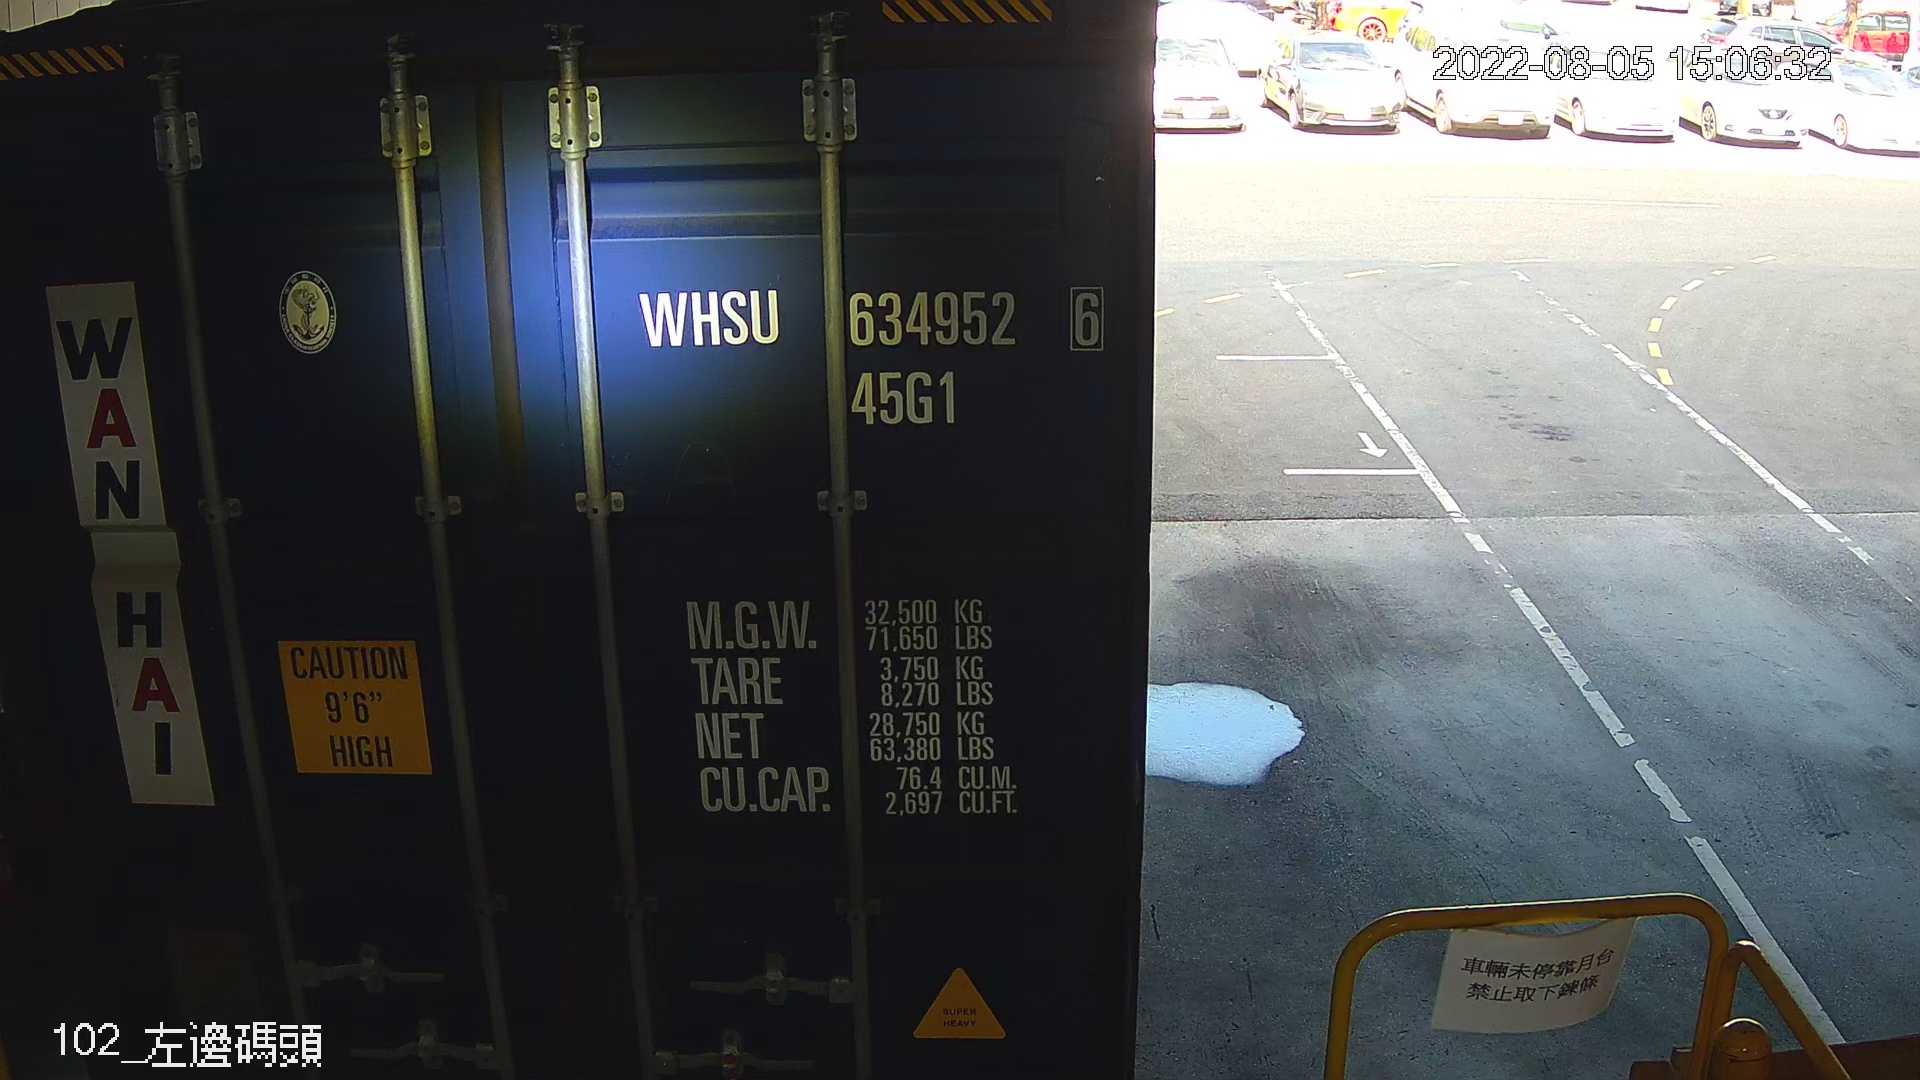container: (622, 270, 1120, 436)
